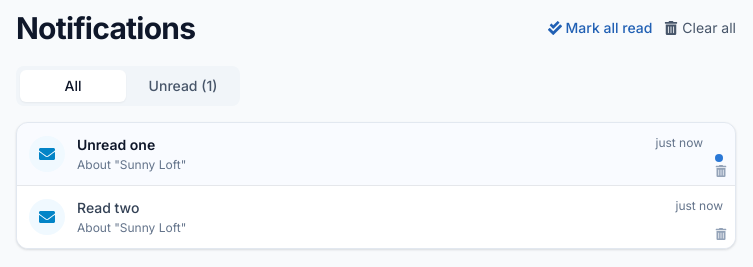
Scenario: Notifications page › marks all as read
expect the text "Unread one" is shown: met, box [77, 135, 155, 155]
Click the button "Mark all read". click: [600, 28]
box: [548, 18, 652, 38]
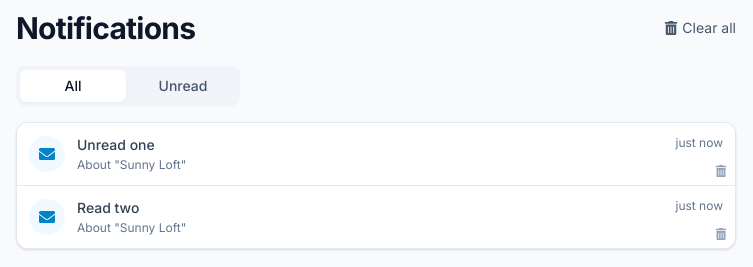
expect the button "Mark all read" is gone: met
